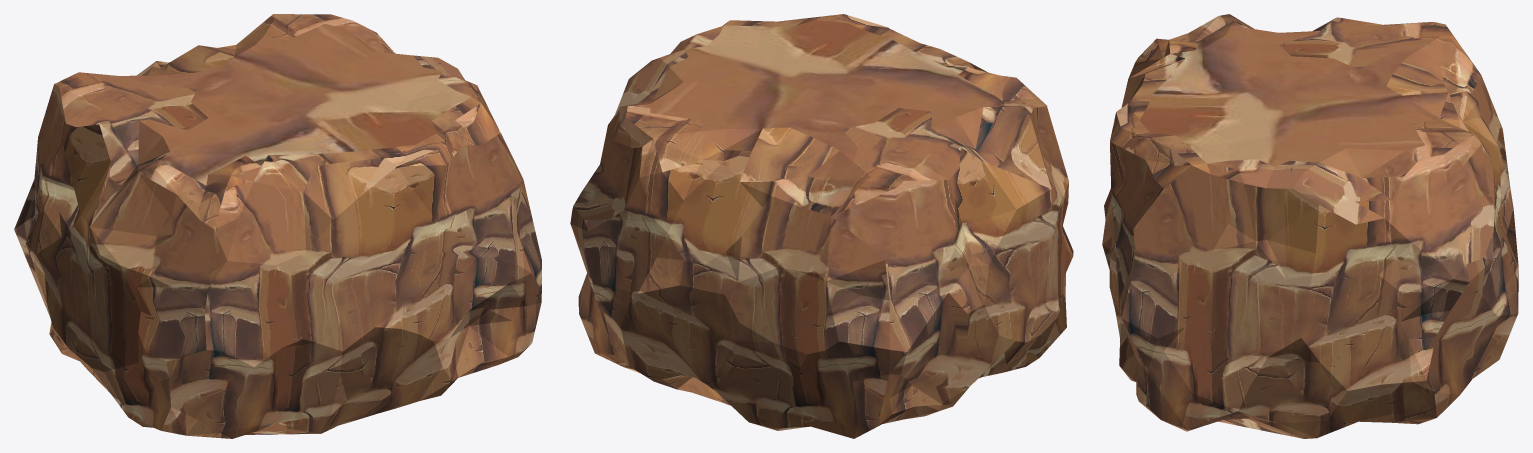
The model's file is platform07.fbx.
3 renders of one model, left to right at view 1: azimuth 30°, elevation 25°; view 2: azimuth 150°, elevation 25°; view 3: azimuth 270°, elevation 25°, orthographic.
Visible parts, largest first — view 1: Cube; view 2: Cube; view 3: Cube.
Boxes of the visible parts, x1,y1,x2,y2 form: Cube: [14, 14, 541, 438]; Cube: [570, 14, 1073, 438]; Cube: [1102, 14, 1518, 438].
Bounding box in the file's own units: 7.48 × 6.6 × 5.
